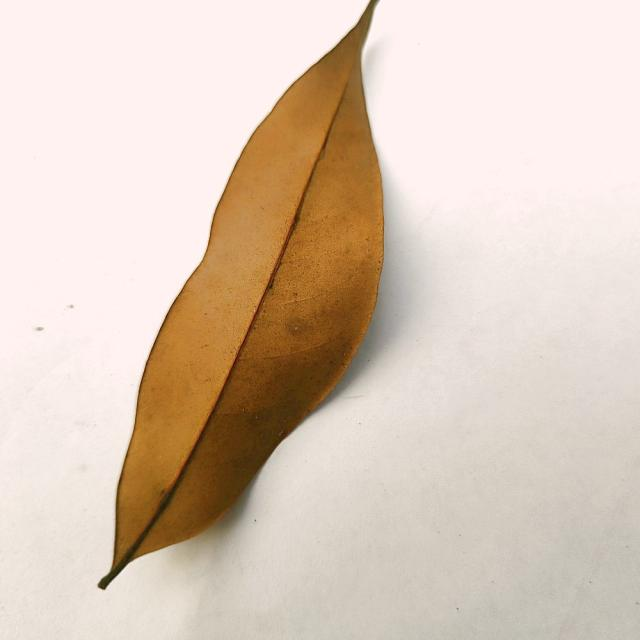Dry_Leaf-Lychee: (102, 0, 386, 589)
